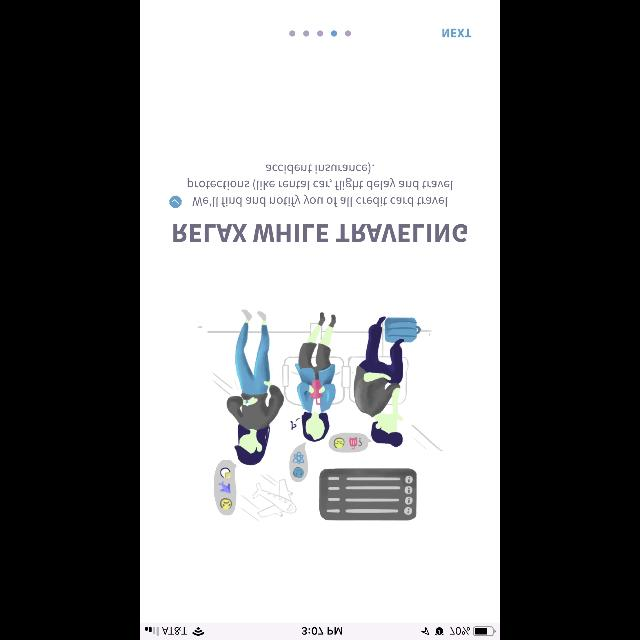icon: (170, 196, 182, 208)
image: (198, 309, 442, 521)
pageindicator: (289, 30, 351, 36)
text: (188, 162, 452, 208), (174, 224, 466, 242), (442, 28, 472, 38)
uppertaskbar: (140, 622, 500, 640)
